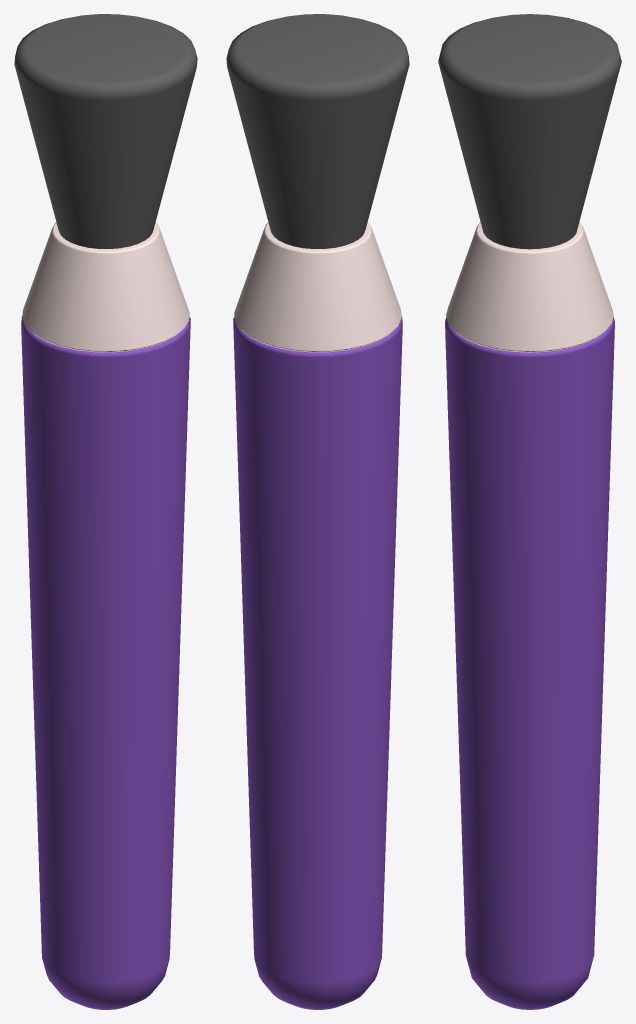
The model's file is Store_17_Cosmetic_Brush_1.glb.
The picture shows the model from 3 angles, left to right: view 1: azimuth 30°, elevation 25°; view 2: azimuth 150°, elevation 25°; view 3: azimuth 270°, elevation 25°; orthographic projection.
Parts seen in each view (by area): view 1: Store_17_Cosmetic_Brush_1; view 2: Store_17_Cosmetic_Brush_1; view 3: Store_17_Cosmetic_Brush_1.
Boxes of the visible parts, box(x1,y1,x2,y2) form: Store_17_Cosmetic_Brush_1: box(14, 14, 197, 1009); Store_17_Cosmetic_Brush_1: box(226, 14, 409, 1009); Store_17_Cosmetic_Brush_1: box(438, 14, 621, 1009).
Size of the model in its own units: 0.315 by 1.8 by 0.315.
Materials: 1 (1 with a texture image).
